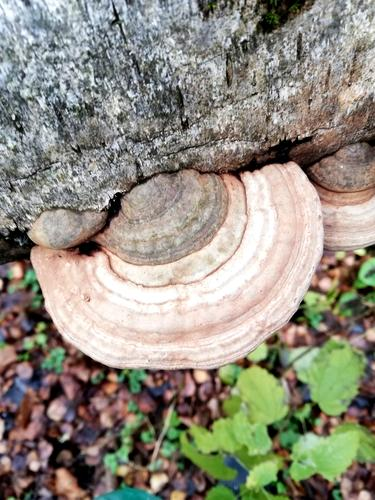Ganoderma - Fruit Body: (28, 155, 323, 375), (328, 138, 375, 255)
